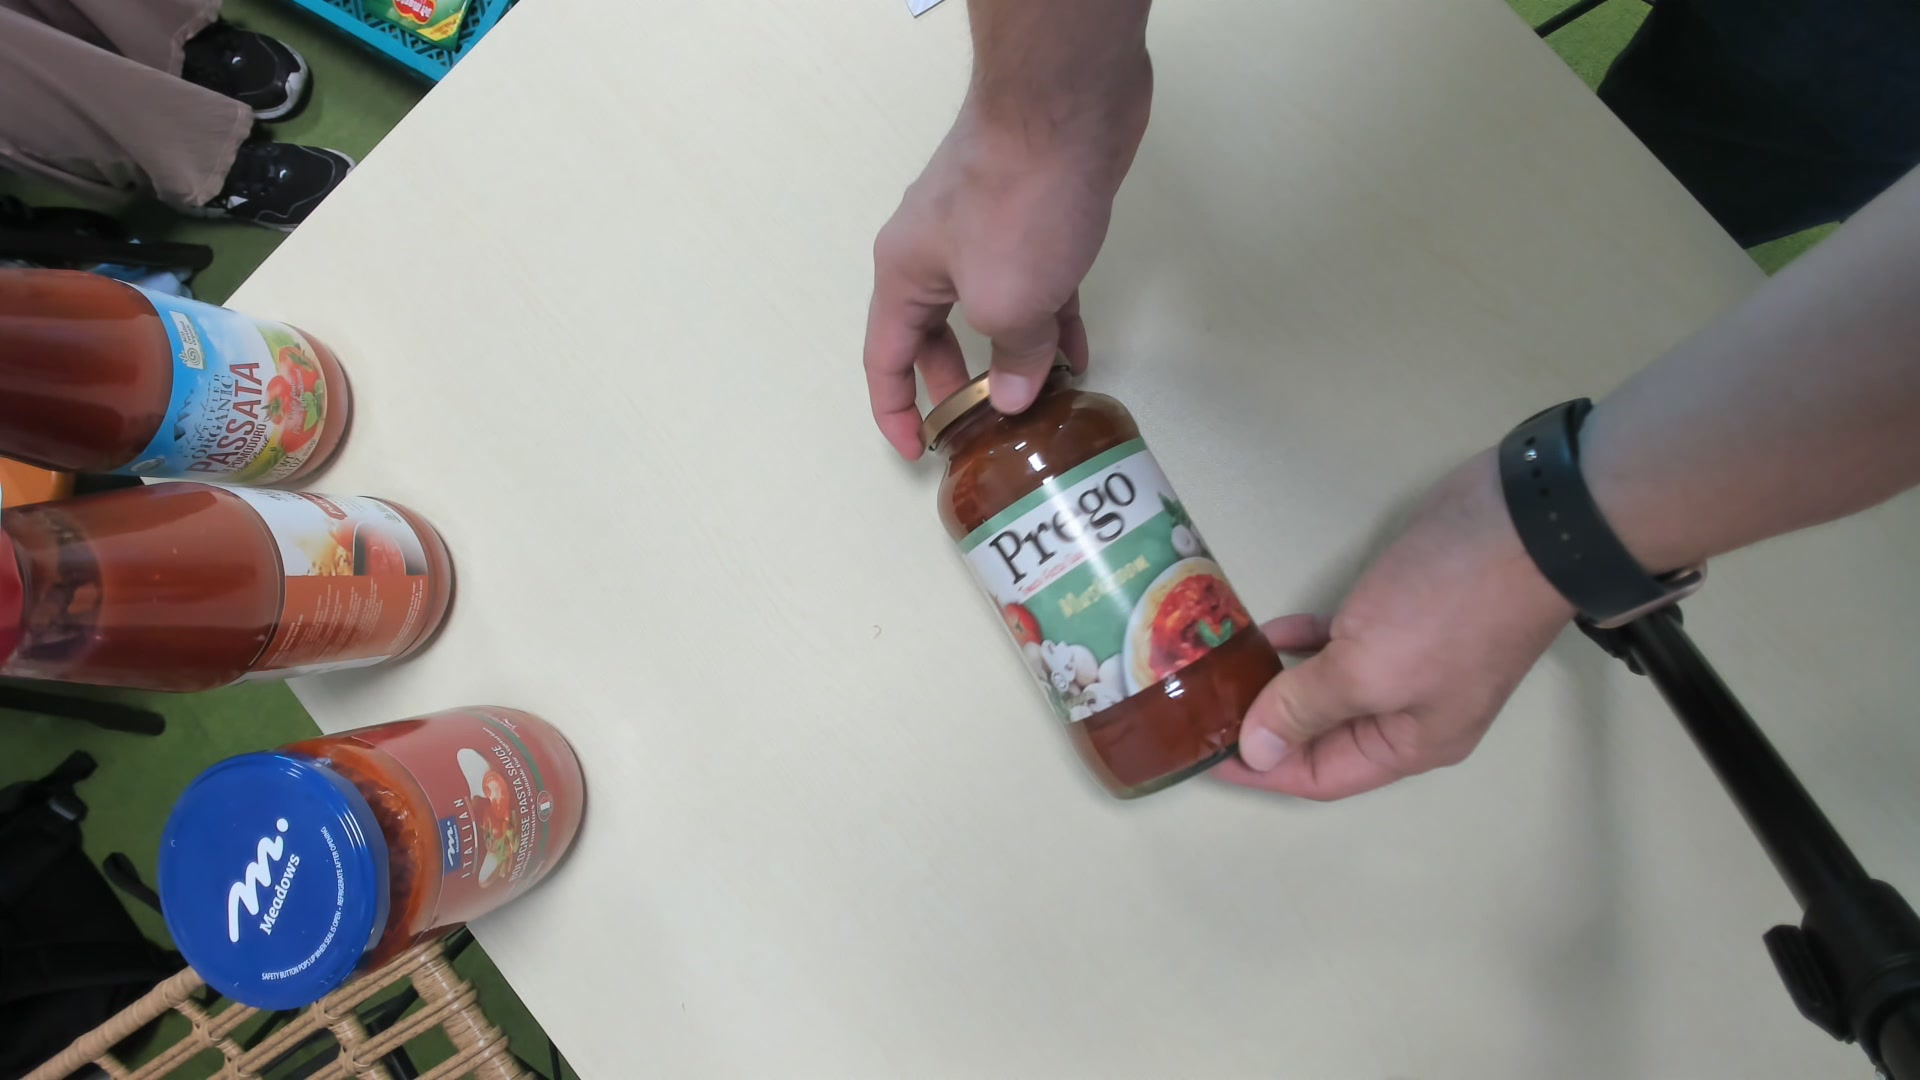PastaSauce_600-699g_Halal_NonHealthy: (927, 365, 1292, 800)
